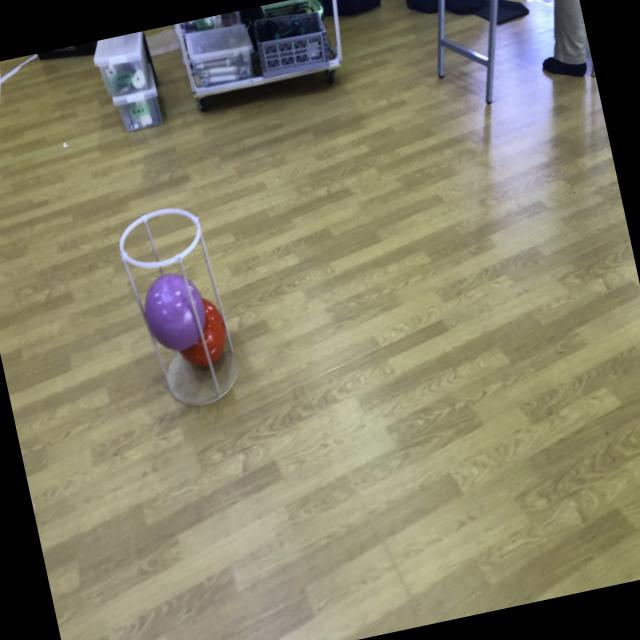purple_ball: (138, 270, 208, 354)
red_ball: (168, 294, 234, 372)
